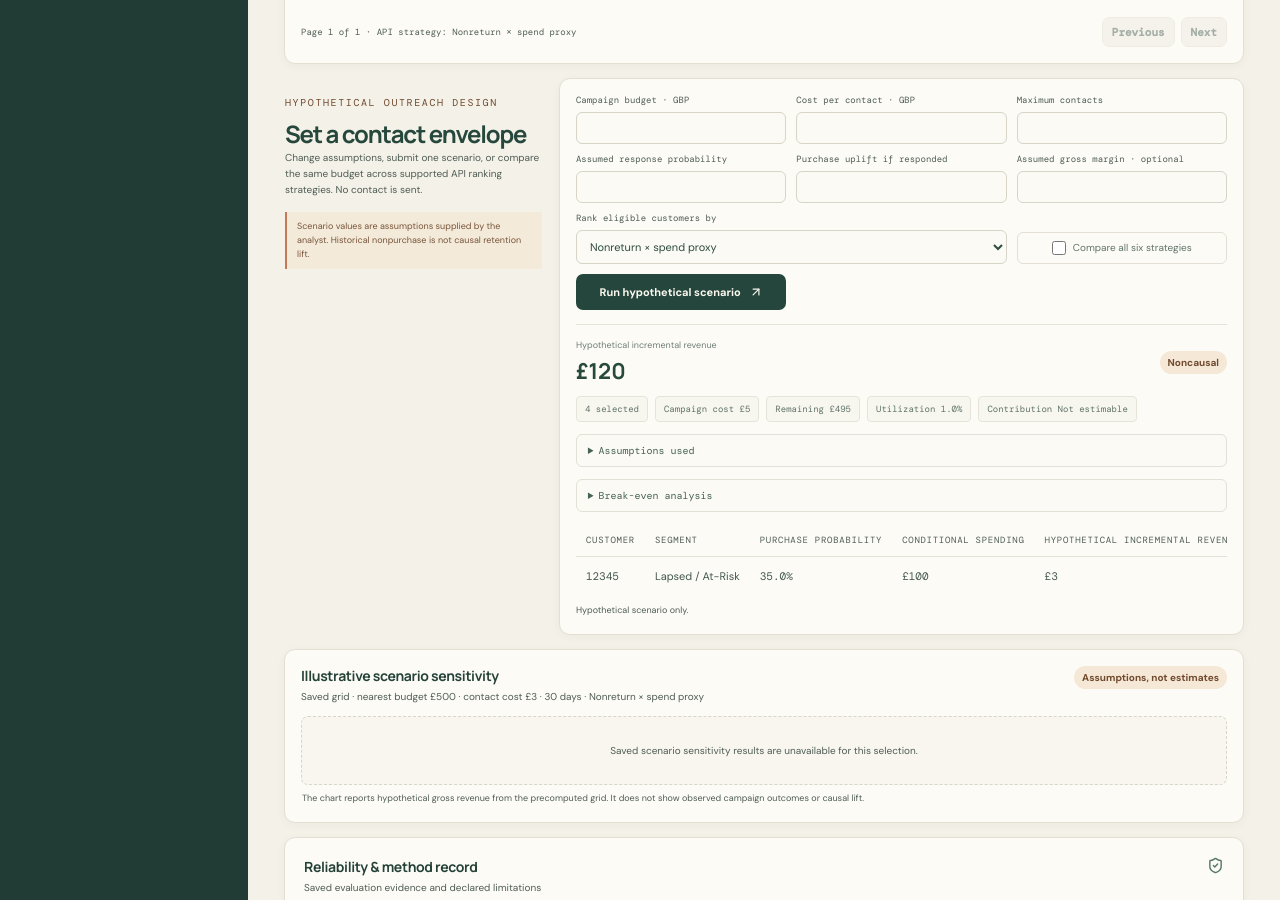
OELP customer intelligence pages › shows the returned contact list and the exact assumptions behind a scenario
(page scrolled)
Expected: the table with test id "table-scenario-contacts" is shown, [576, 524, 1227, 595]
Expected: the row with test id "row-scenario-contact-12345" shows "£3", [1044, 569, 1058, 583]
Click the heading "Assumptions used": (646, 450) [598, 444, 694, 457]
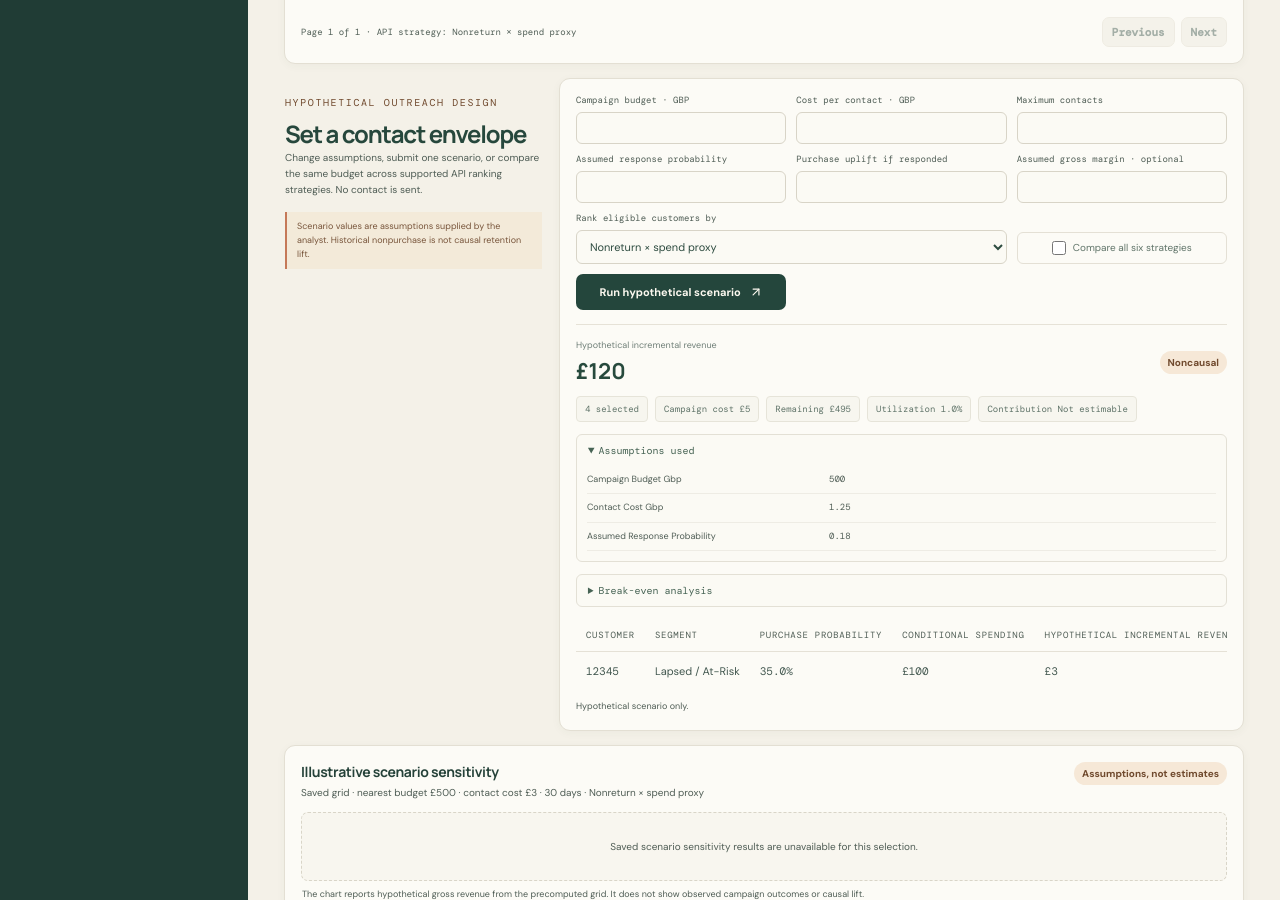
Expected: the text "campaign budget gbp" is shown, [587, 473, 682, 485]
Expected: the text "500" is shown, [829, 473, 845, 485]
